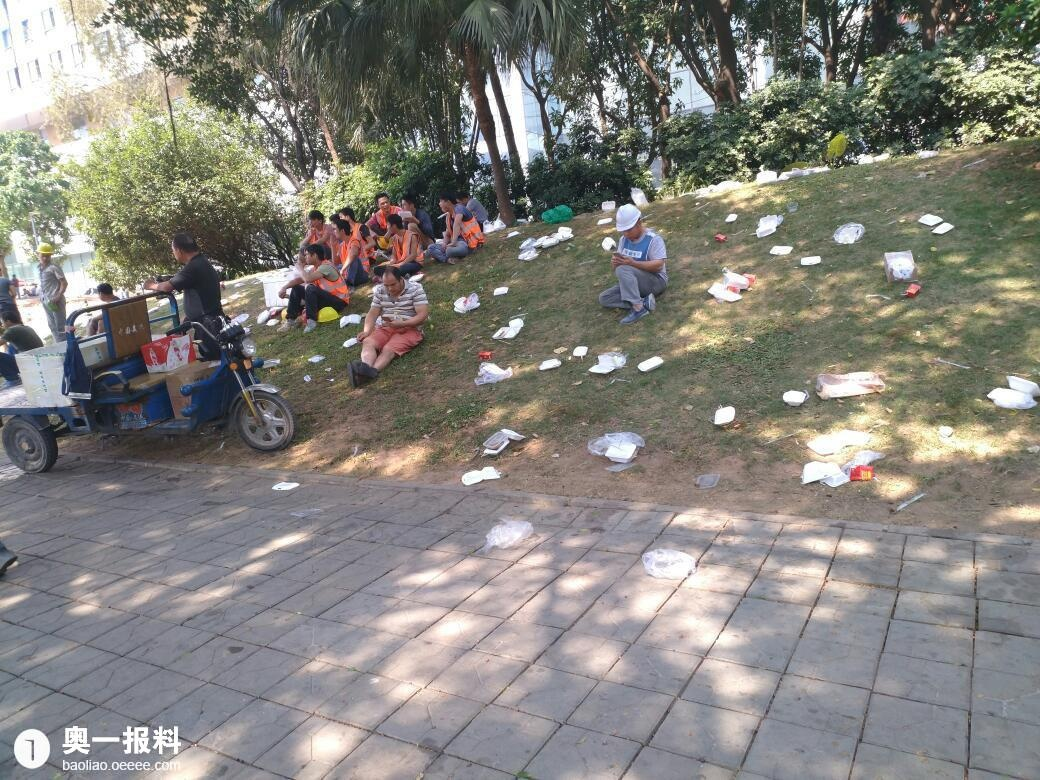none: (169, 230, 198, 263), (378, 266, 403, 294), (304, 243, 325, 267), (329, 220, 351, 240), (95, 283, 114, 302), (437, 192, 455, 212), (306, 209, 324, 229), (374, 191, 391, 212), (1, 308, 18, 329), (384, 214, 402, 233), (337, 207, 354, 225), (399, 194, 415, 213), (454, 191, 468, 207)
white: (615, 205, 642, 240)
yellow: (35, 242, 53, 265)
